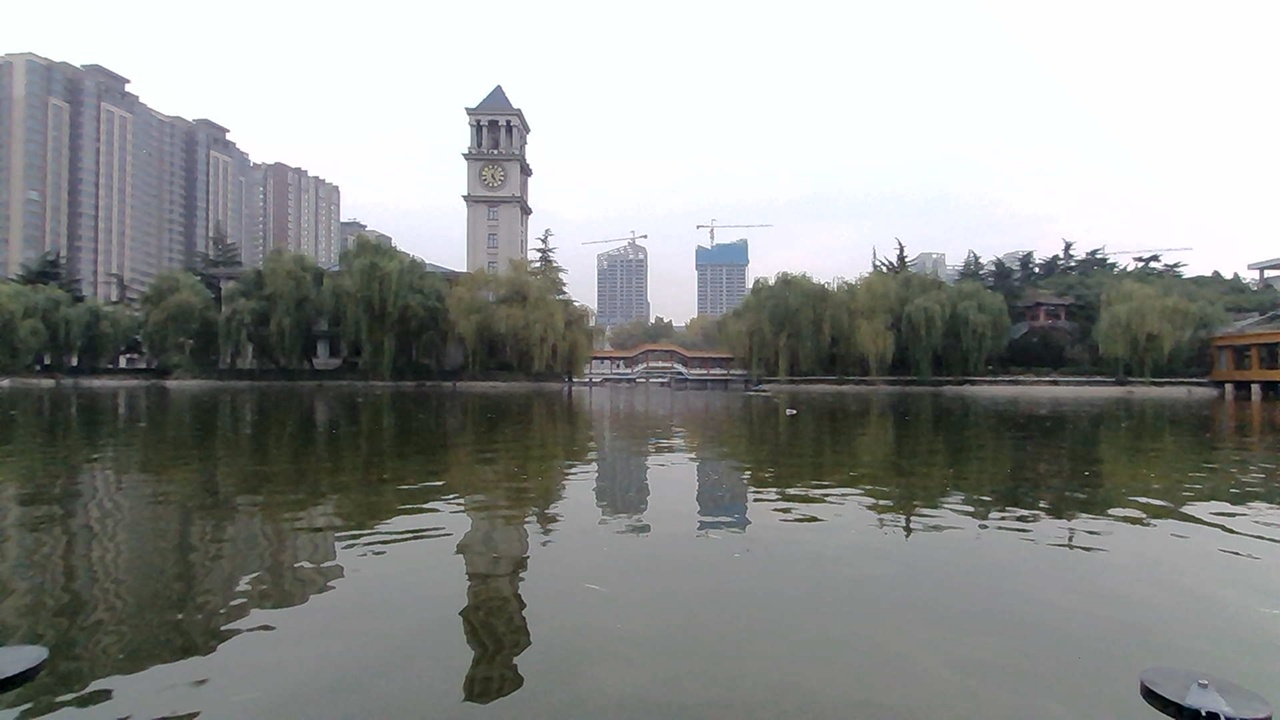bottle: (768, 398, 814, 422)
